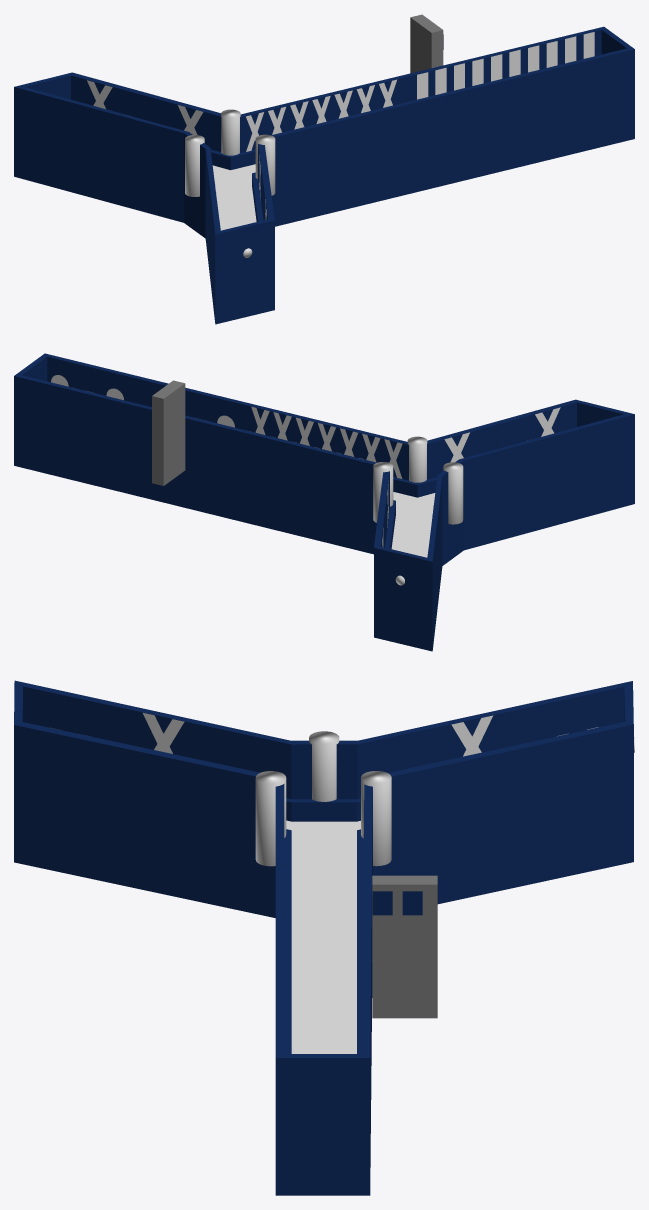
The picture shows the model from 3 angles, top to bottom: view 1: azimuth 30°, elevation 25°; view 2: azimuth 150°, elevation 25°; view 3: azimuth 270°, elevation 25°; orthographic projection. The views are drawn at different scales.
Visible parts, largest first — view 1: Cube.077, Cube.075, Cube.072, Cube.076, Cylinder.018, Cylinder.020, y2; view 2: Cube.077, Cube.072, Cube.075, Cylinder.018, Cube.076, y2, Cylinder.020; view 3: Cube.077, Cube.075, Cube.072, Cube.076, y2, Cylinder.020, Cylinder.018, Cube.104, Cube.105.
Part boxes in pixels (left/top/right/bottom): Cube.077: left=14, top=26, right=634, bottom=324; Cube.075: left=212, top=164, right=256, bottom=230; Cube.072: left=410, top=14, right=443, bottom=73; Cube.076: left=211, top=149, right=263, bottom=229; Cylinder.018: left=185, top=135, right=204, bottom=196; Cylinder.020: left=221, top=109, right=240, bottom=155; y2: left=255, top=134, right=275, bottom=195; Cube.077: left=14, top=353, right=634, bottom=651; Cube.072: left=152, top=380, right=185, bottom=485; Cube.075: left=391, top=492, right=435, bottom=557; Cylinder.018: left=443, top=462, right=463, bottom=524; Cube.076: left=385, top=477, right=437, bottom=554; y2: left=407, top=436, right=427, bottom=482; Cylinder.020: left=373, top=462, right=393, bottom=522; Cube.077: left=14, top=680, right=633, bottom=1195; Cube.075: left=286, top=820, right=360, bottom=1053; Cube.072: left=372, top=875, right=437, bottom=1018; Cube.076: left=284, top=798, right=363, bottom=1053; y2: left=255, top=771, right=286, bottom=866; Cylinder.020: left=361, top=771, right=391, bottom=866; Cylinder.018: left=309, top=731, right=339, bottom=801; Cube.104: left=143, top=713, right=184, bottom=753; Cube.105: left=451, top=715, right=493, bottom=756.
Bounding box in the file's own units: 2732 × 646 × 1900.
